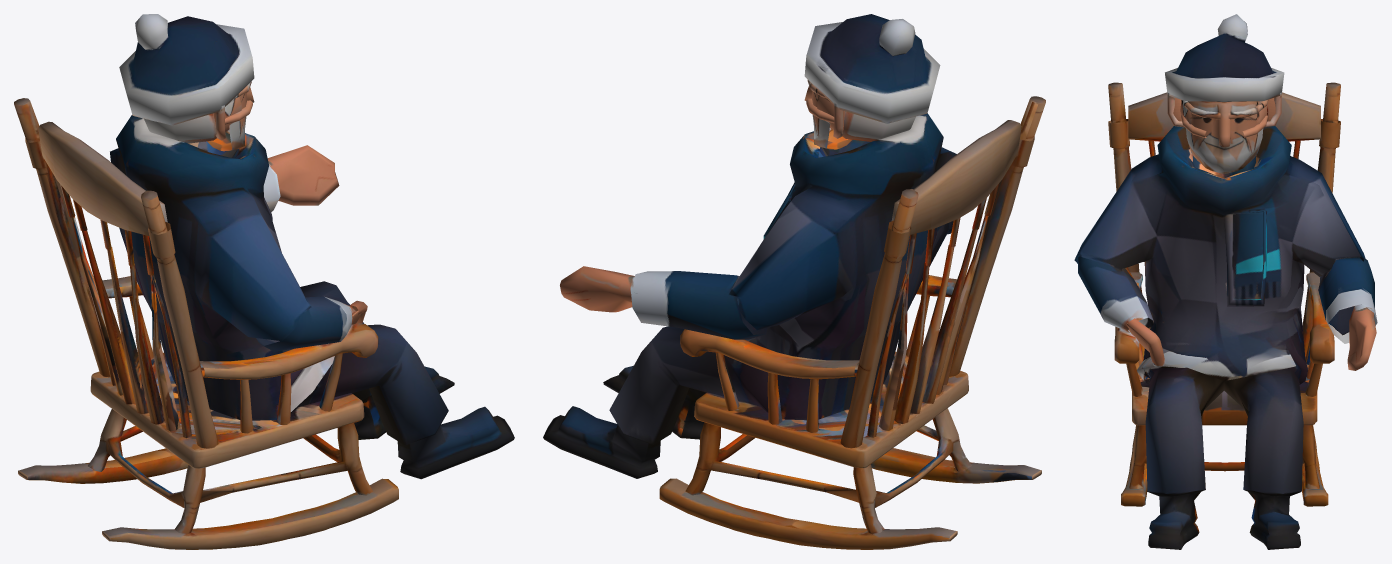
3 views of the same model, side by side, from view 1: azimuth 30°, elevation 25°; view 2: azimuth 150°, elevation 25°; view 3: azimuth 270°, elevation 25° (orthographic). The views are drawn at different scales.
Visible parts, largest first — view 1: tripo_node_2a381a11; view 2: tripo_node_2a381a11; view 3: tripo_node_2a381a11.
Boxes of the visible parts, left/top/right/bottom form: tripo_node_2a381a11: left=14, top=14, right=514, bottom=549; tripo_node_2a381a11: left=543, top=14, right=1045, bottom=549; tripo_node_2a381a11: left=1074, top=14, right=1377, bottom=549.
Size of the model in its own units: 82.1 by 94.69 by 60.57.
Materials: 4 (1 with a texture image).
